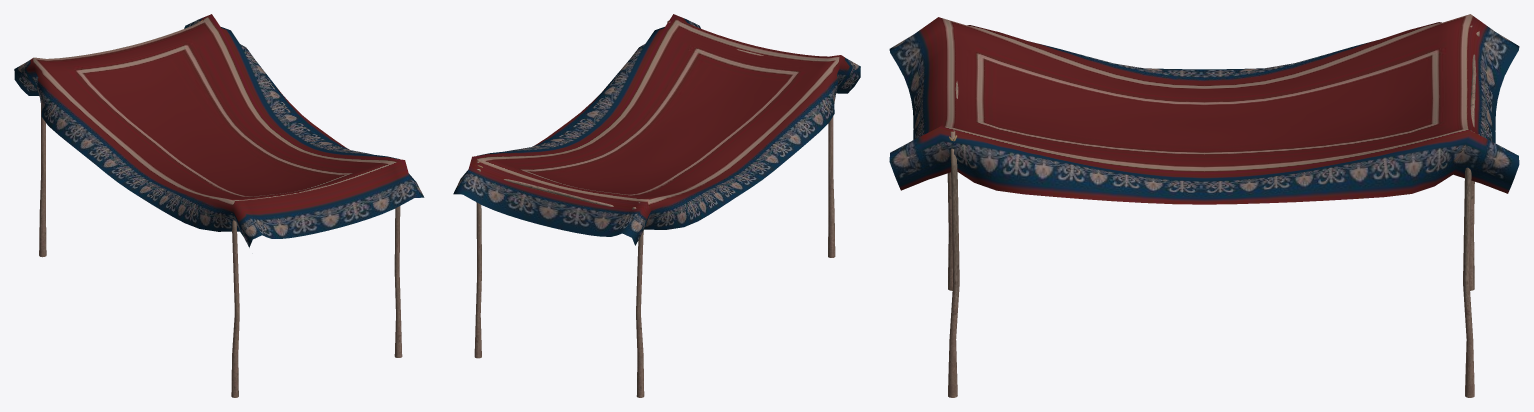
File: SM_market_tent_02.glb
The picture shows the model from 3 angles, left to right: view 1: azimuth 30°, elevation 25°; view 2: azimuth 150°, elevation 25°; view 3: azimuth 270°, elevation 25°; orthographic projection. The views are drawn at different scales.
Visible parts, largest first — view 1: SM_market_tent_02; view 2: SM_market_tent_02; view 3: SM_market_tent_02.
Part boxes in pixels (<box>): SM_market_tent_02: <box>14,14,424,397</box>; SM_market_tent_02: <box>453,14,860,397</box>; SM_market_tent_02: <box>889,14,1519,397</box>.
Size of the model in its own units: 5.07 by 4.54 by 9.63.
Materials: 2 (2 with a texture image).
